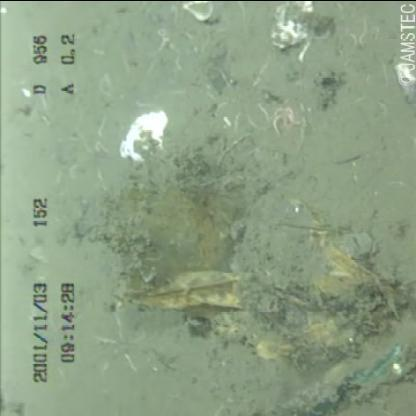Bio: (272, 102, 306, 134)
Rác: (121, 208, 415, 414)
